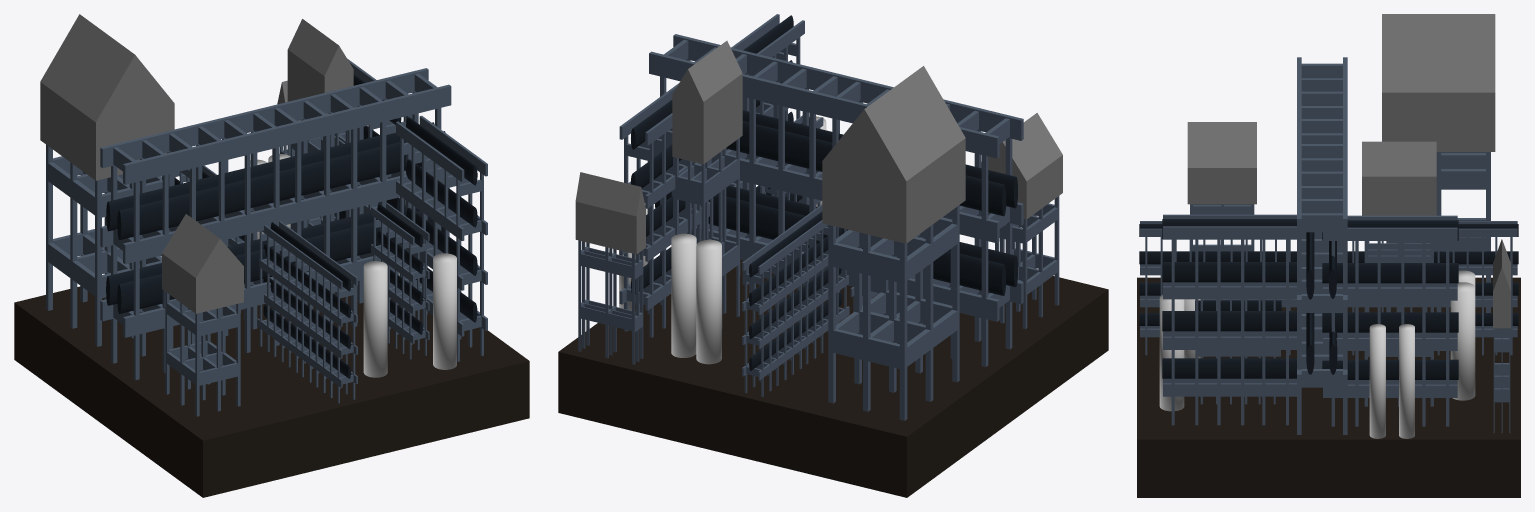
File: LNG Train 1_short_cube.fbx
3 renders of one model, left to right at view 1: azimuth 30°, elevation 25°; view 2: azimuth 150°, elevation 25°; view 3: azimuth 270°, elevation 25°, orthographic. The views are drawn at different scales.
Parts seen in each view (by area): view 1: LNGTrain_s_cube; view 2: LNGTrain_s_cube; view 3: LNGTrain_s_cube.
Boxes of the visible parts, bbox=[...] form: LNGTrain_s_cube: bbox=[14, 14, 529, 497]; LNGTrain_s_cube: bbox=[558, 14, 1108, 497]; LNGTrain_s_cube: bbox=[1137, 14, 1520, 497].
Size of the model in its own units: 100 by 100 by 100.
